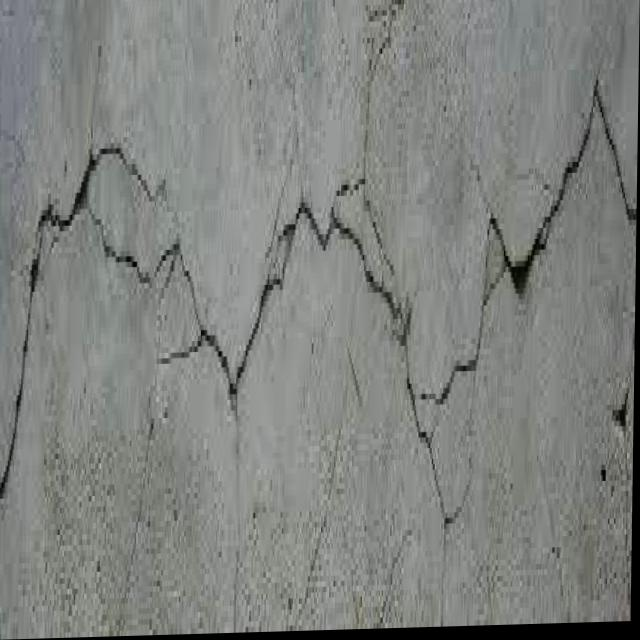Crack: (0, 86, 621, 486)
